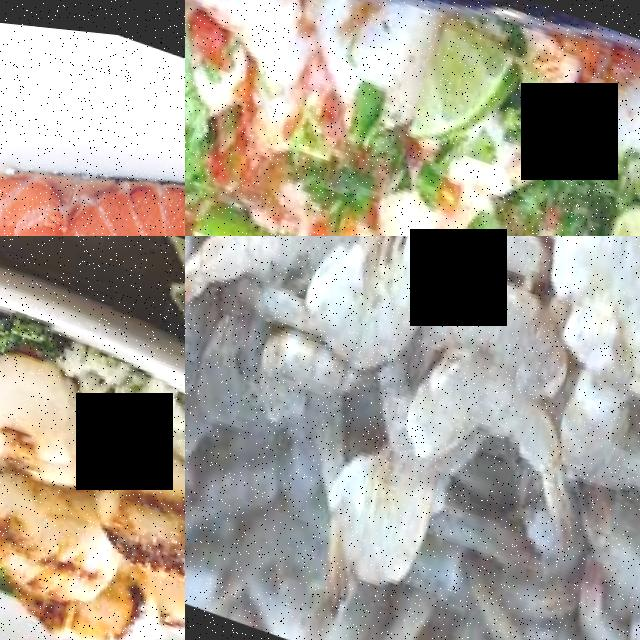lemon: (405, 6, 520, 159), (185, 205, 294, 236), (598, 167, 640, 236)
salmon: (0, 34, 185, 236)
sea scallops: (0, 461, 113, 605), (0, 329, 100, 486), (88, 436, 185, 594)
shrimp: (396, 349, 571, 488), (308, 435, 443, 601), (292, 236, 442, 381), (540, 236, 640, 329)
